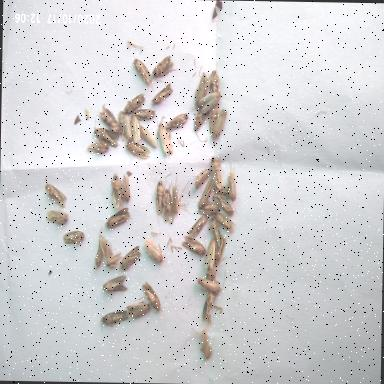pbw: (91, 117, 122, 148), (197, 270, 226, 300), (96, 104, 123, 136), (132, 57, 156, 93), (151, 55, 177, 87), (172, 175, 190, 219), (142, 238, 166, 271), (100, 237, 124, 269), (204, 156, 226, 189), (98, 207, 132, 228), (182, 234, 207, 262), (198, 88, 222, 115), (228, 161, 240, 215), (124, 140, 151, 164), (100, 310, 128, 333), (125, 300, 151, 324), (104, 274, 128, 300), (193, 107, 210, 142), (195, 72, 212, 106), (158, 124, 174, 160), (188, 214, 210, 240), (110, 173, 124, 212), (152, 178, 166, 216), (202, 292, 216, 330), (164, 181, 176, 225), (119, 246, 141, 270), (151, 82, 173, 106), (214, 212, 236, 236), (46, 184, 68, 208), (124, 92, 145, 116), (199, 178, 215, 209), (212, 109, 228, 140), (213, 194, 235, 216), (166, 112, 189, 133), (210, 215, 224, 248), (132, 107, 158, 124), (215, 237, 230, 265), (192, 168, 210, 190), (140, 126, 158, 147), (46, 209, 69, 225), (205, 238, 216, 271), (119, 174, 131, 204), (94, 226, 102, 270), (197, 201, 221, 215), (210, 70, 224, 94), (130, 114, 141, 144), (201, 328, 211, 360), (88, 140, 110, 152), (64, 231, 84, 244), (117, 112, 125, 142), (124, 114, 132, 142), (213, 186, 230, 199), (206, 264, 216, 282), (84, 107, 90, 119)
